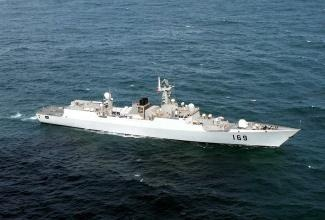warship: (37, 76, 302, 147)
